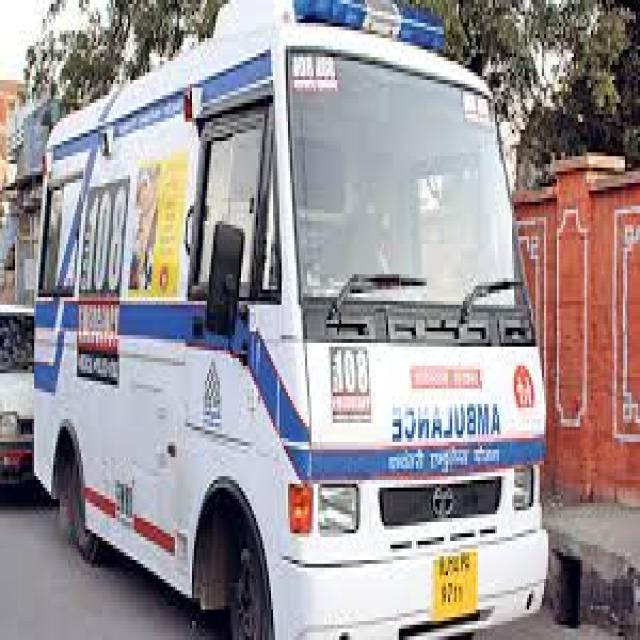Ambulance: (28, 7, 557, 640)
